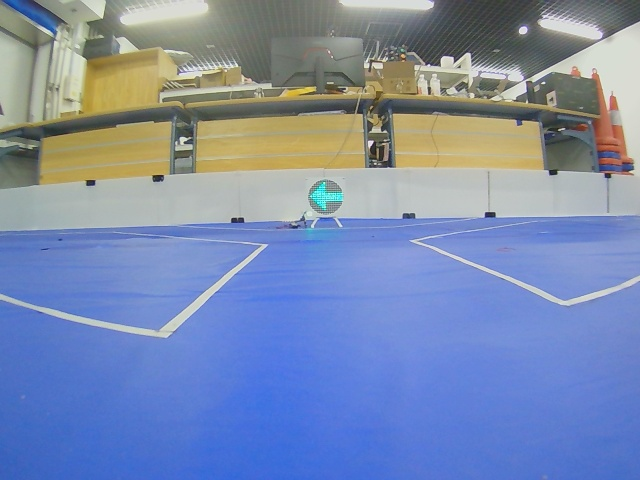left_green: (308, 179, 344, 215)
